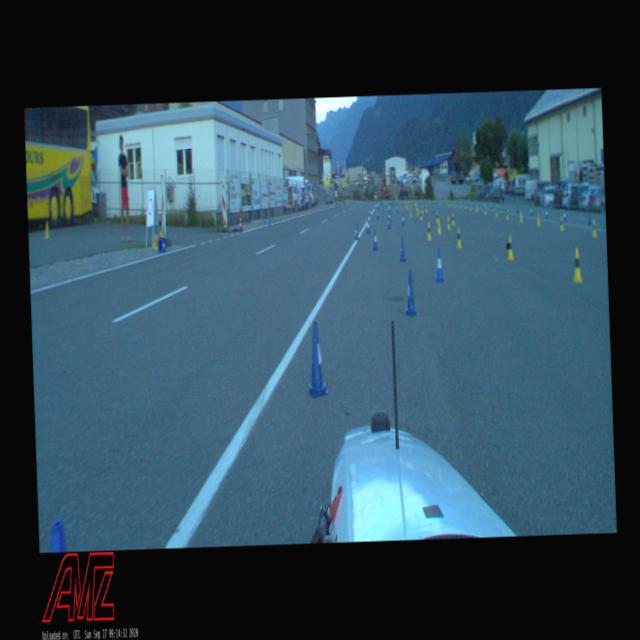blue_cone: (305, 320, 328, 397), (403, 270, 418, 315), (434, 248, 444, 282), (398, 236, 406, 262), (372, 229, 378, 250), (354, 223, 359, 239), (366, 220, 370, 233), (562, 210, 566, 222), (400, 214, 404, 225), (388, 213, 392, 223), (387, 218, 390, 228), (545, 209, 548, 218), (376, 212, 379, 220), (588, 213, 590, 225), (369, 208, 371, 218), (530, 207, 532, 216), (396, 204, 398, 212), (387, 207, 389, 214)
yellow_cone: (572, 248, 582, 282), (506, 234, 513, 260), (426, 220, 432, 240), (456, 228, 462, 247), (446, 217, 451, 230), (592, 221, 596, 237), (558, 216, 562, 230), (437, 220, 441, 233), (536, 213, 540, 226), (451, 213, 455, 225), (519, 212, 522, 222), (495, 206, 498, 216), (506, 210, 509, 219), (409, 209, 412, 217), (468, 202, 471, 210), (436, 212, 438, 222), (420, 211, 422, 220), (406, 202, 408, 210), (475, 204, 477, 212), (464, 202, 466, 210), (399, 203, 402, 208), (409, 202, 412, 207), (484, 206, 486, 213), (416, 208, 418, 215), (424, 204, 426, 211), (421, 206, 423, 213), (415, 203, 417, 210), (459, 201, 461, 208), (454, 200, 456, 207)
